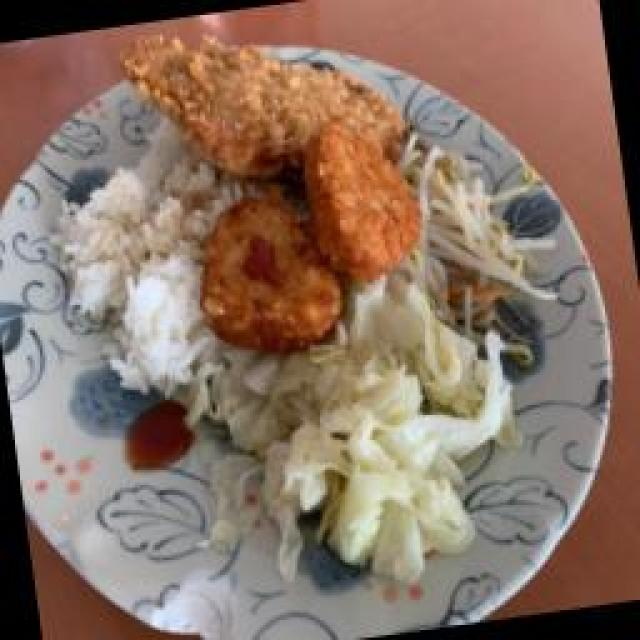Wet Waste: (233, 318, 515, 580), (188, 125, 422, 353), (122, 0, 395, 172), (65, 158, 220, 398), (408, 130, 542, 328)
